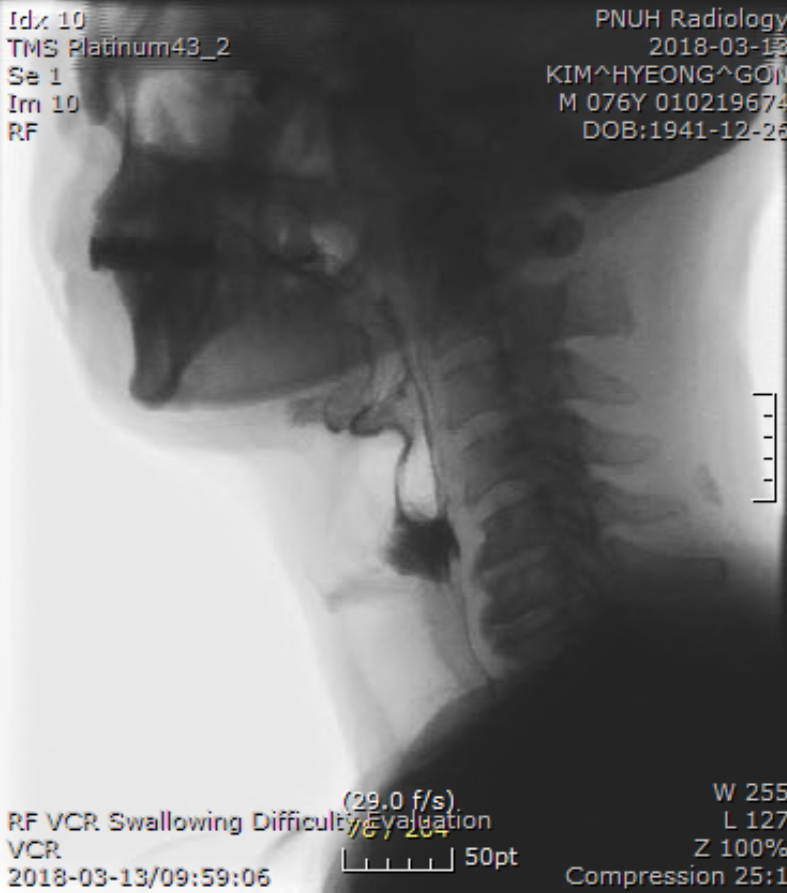dros: (393, 467, 452, 523)
food: (380, 508, 457, 584)
uros: (331, 398, 396, 445)
